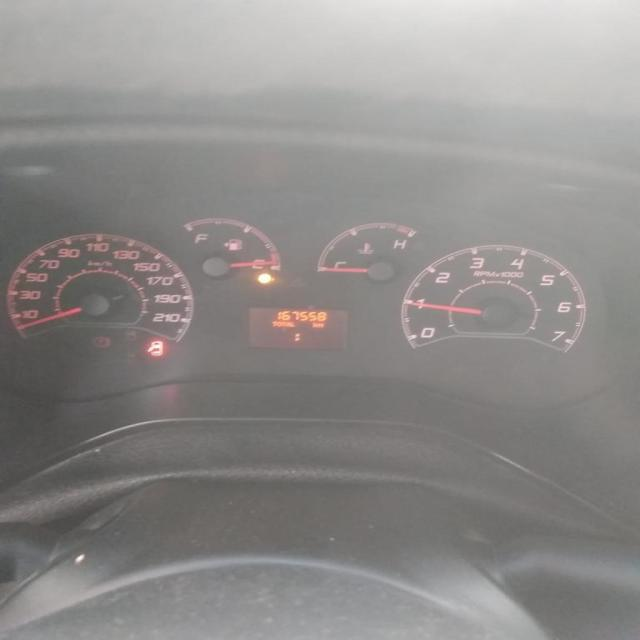odometer: (243, 304, 352, 352)
